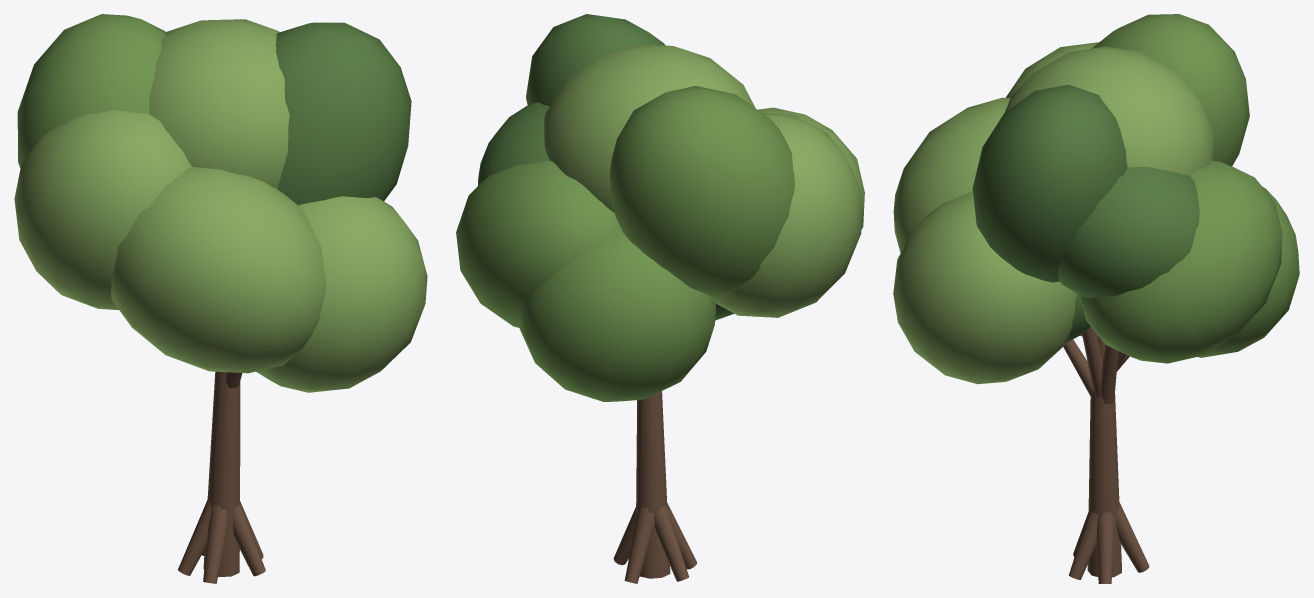
Rendered from tree_oak.glb.
3 views of the same model, side by side, from view 1: azimuth 30°, elevation 25°; view 2: azimuth 150°, elevation 25°; view 3: azimuth 270°, elevation 25° (orthographic). The views are drawn at different scales.
Size of the model in its own units: 5.32 by 7.68 by 5.5.
